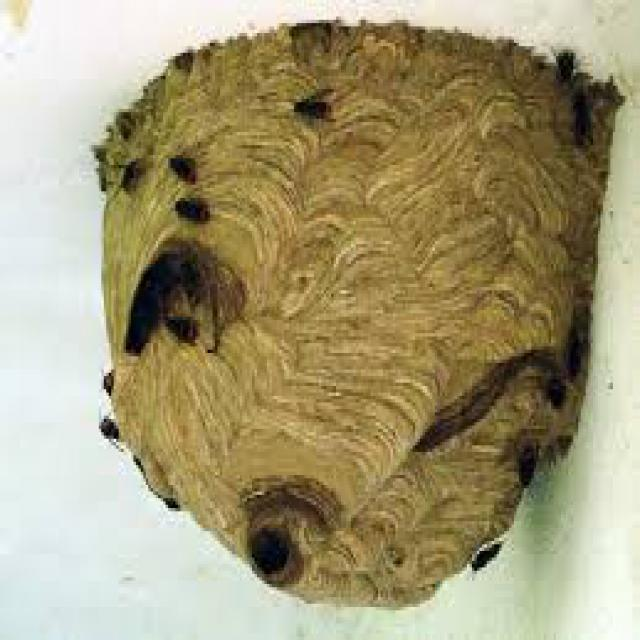Vespa Velutina: (287, 83, 344, 128), (90, 408, 128, 453), (170, 194, 218, 226), (168, 148, 202, 192), (94, 364, 122, 403)
